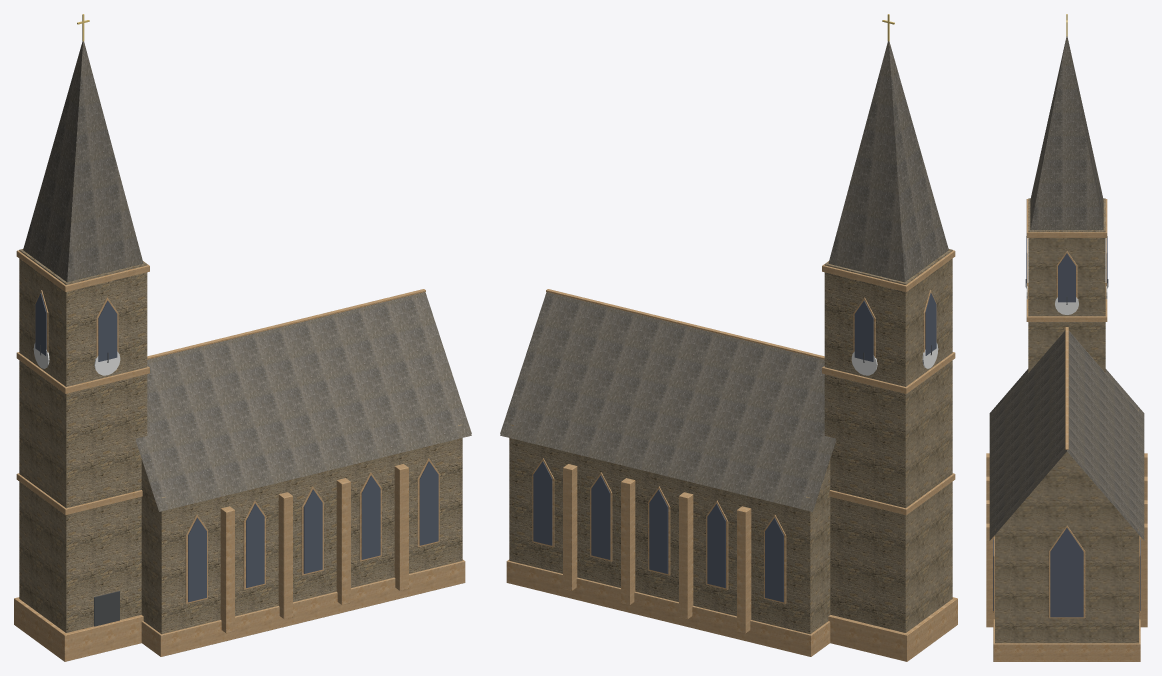
The model's file is town-church.glb.
3 views of the same model, side by side, from view 1: azimuth 30°, elevation 25°; view 2: azimuth 150°, elevation 25°; view 3: azimuth 270°, elevation 25° (orthographic). The views are drawn at different scales.
Visible parts, largest first — view 1: town-church-frames; view 2: town-church-frames; view 3: town-church-frames.
Part boxes in pixels (x1=…): town-church-frames: x1=14, y1=14, x2=471, y2=661; town-church-frames: x1=500, y1=14, x2=957, y2=661; town-church-frames: x1=986, y1=14, x2=1147, y2=661.
Bounding box in the file's own units: 33.3 × 51 × 14.6.
7 materials, 3 textured.
